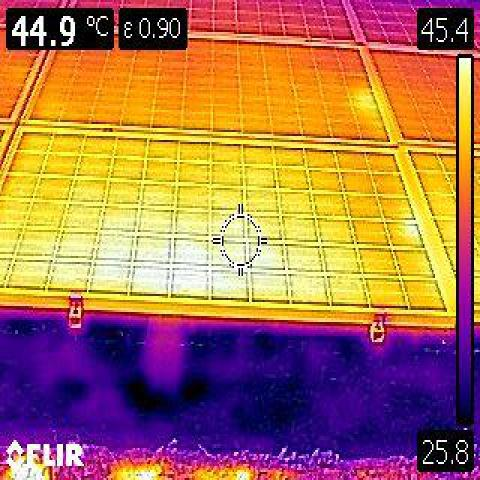fault: (90, 207, 207, 297), (402, 212, 419, 237), (356, 90, 372, 113)
